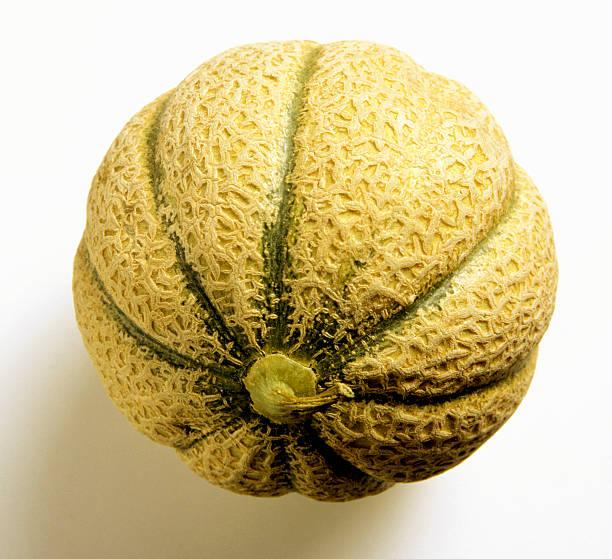Melon Ripe: (71, 42, 558, 505)
